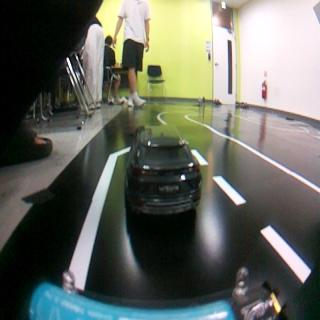car: (124, 121, 200, 219)
